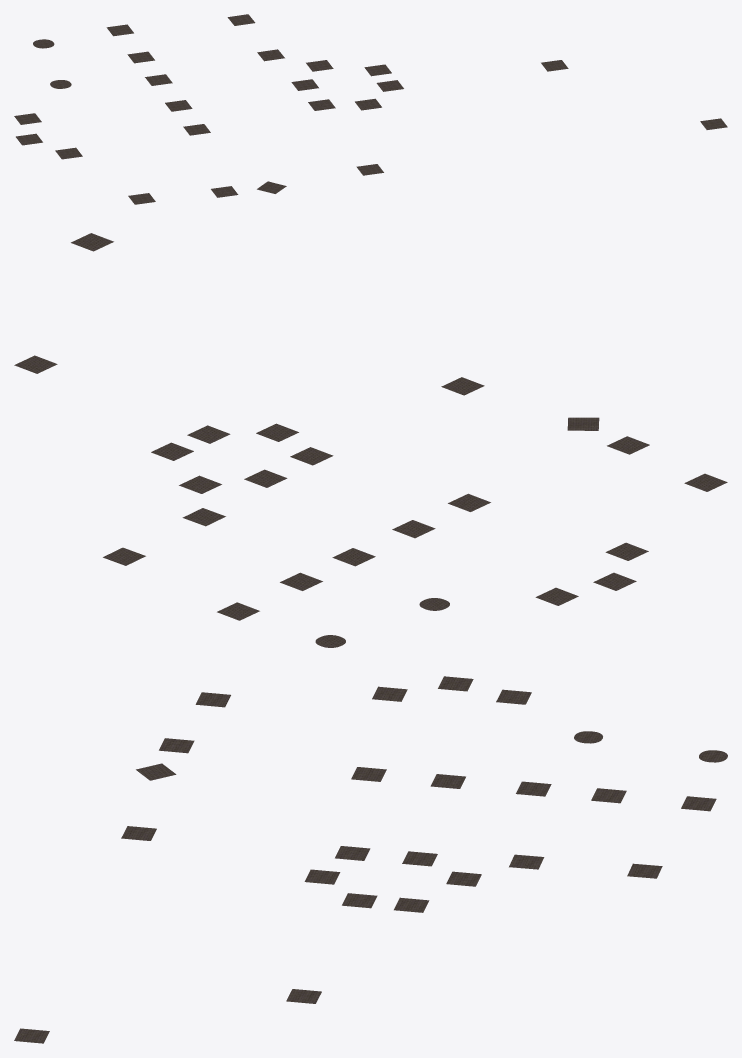
Rendered from tree_pavement.glb.
The picture shows the model from 3 angles, top to bottom: view 1: azimuth 30°, elevation 25°; view 2: azimuth 150°, elevation 25°; view 3: azimuth 270°, elevation 25°; orthographic projection. The views are drawn at different scales.
Visible parts, largest first — view 1: tree_pavement_all.003; view 2: tree_pavement_all.003; view 3: tree_pavement_all.003.
Boxes of the visible parts, <box> form: tree_pavement_all.003: <box>14,14,727,204</box>; tree_pavement_all.003: <box>14,233,727,647</box>; tree_pavement_all.003: <box>14,676,727,1043</box>.
Size of the model in its own units: 57.29 by 0.00576 by 47.08.
1 material, 1 textured.
